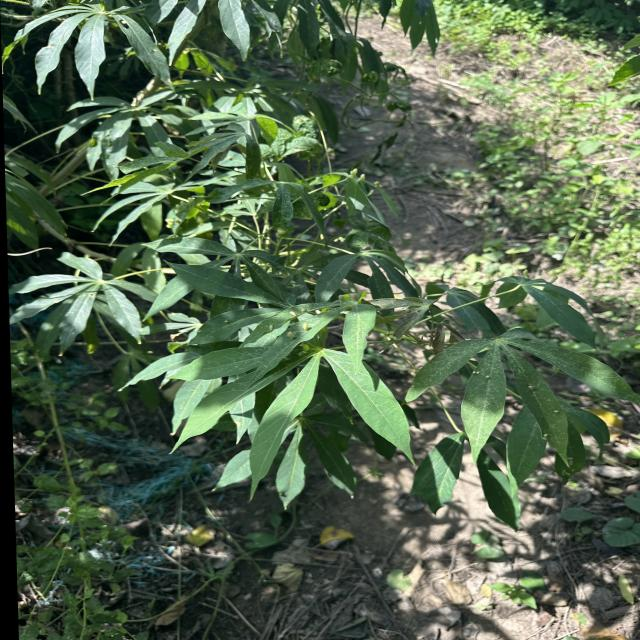Mosca: (255, 300, 323, 344), (463, 330, 495, 358), (467, 358, 496, 385), (111, 9, 135, 36), (539, 425, 558, 451), (543, 396, 566, 416), (523, 377, 545, 393)
